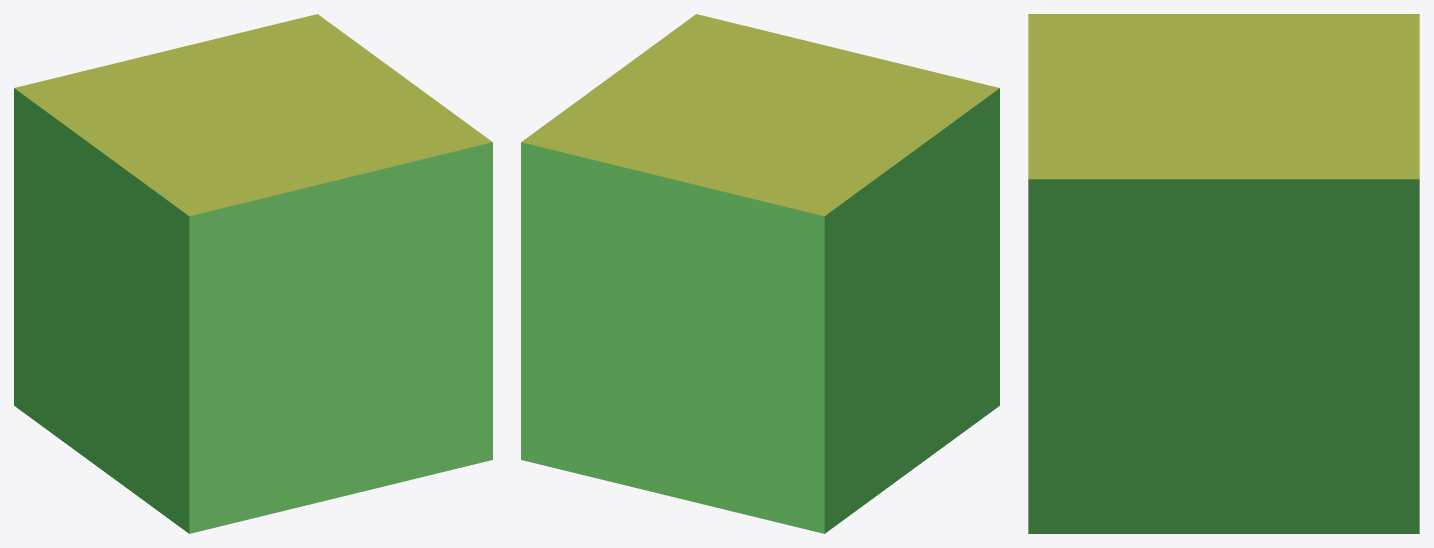
The model's file is Lola.fbx.
3 views of the same model, side by side, from view 1: azimuth 30°, elevation 25°; view 2: azimuth 150°, elevation 25°; view 3: azimuth 270°, elevation 25° (orthographic). The views are drawn at different scales.
Parts seen in each view (by area): view 1: Cube_1; view 2: Cube_1; view 3: Cube_1.
Part boxes in pixels (x1=…): Cube_1: x1=14, y1=14, x2=492, y2=533; Cube_1: x1=521, y1=14, x2=999, y2=533; Cube_1: x1=1028, y1=14, x2=1419, y2=533.
Size of the model in its own units: 1179 by 1179 by 1179.
